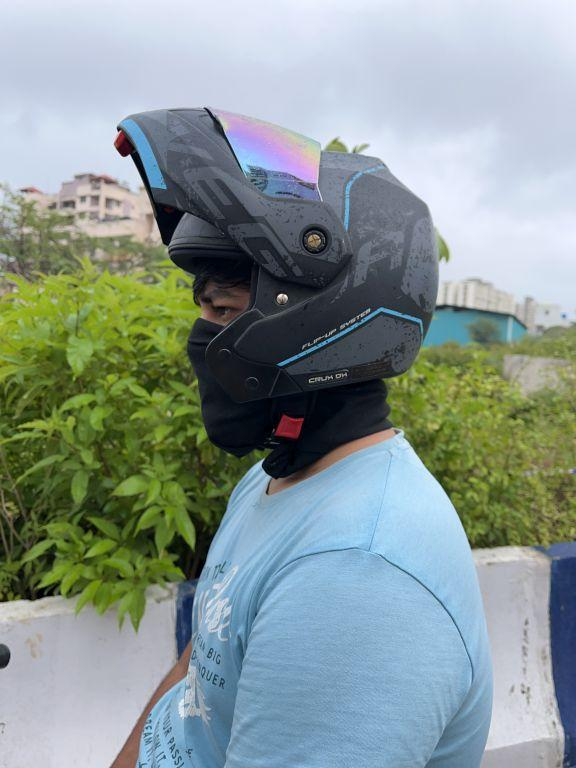helmet: (95, 87, 448, 446)
